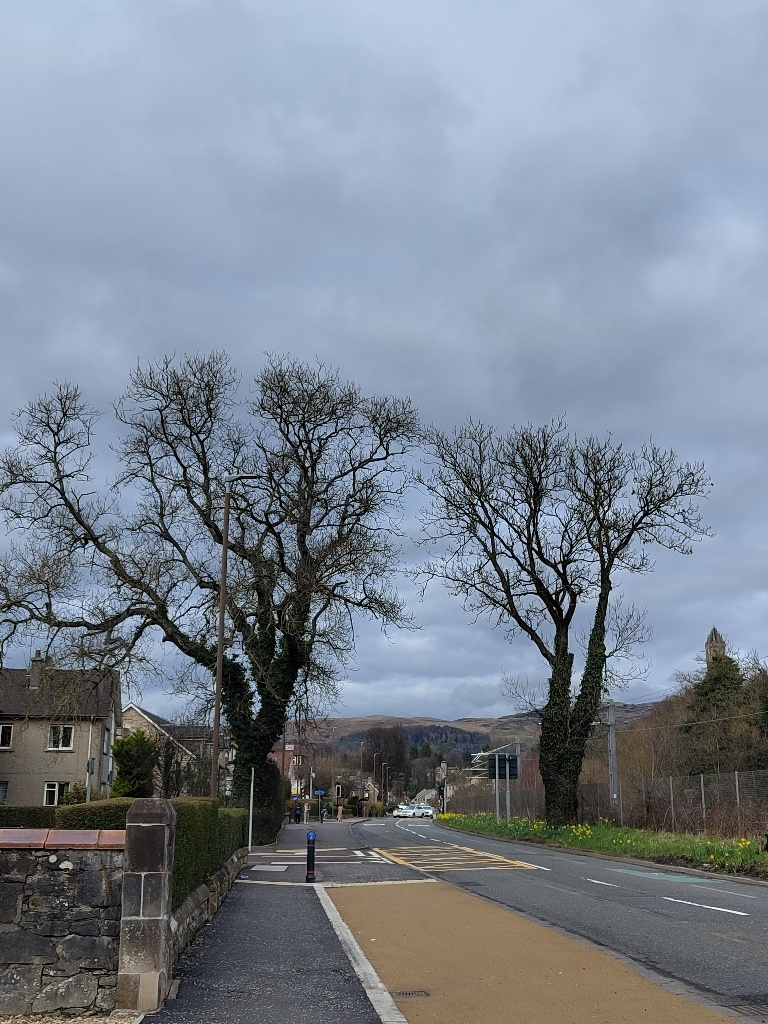Tree: (0, 340, 425, 808), (403, 409, 719, 827)
